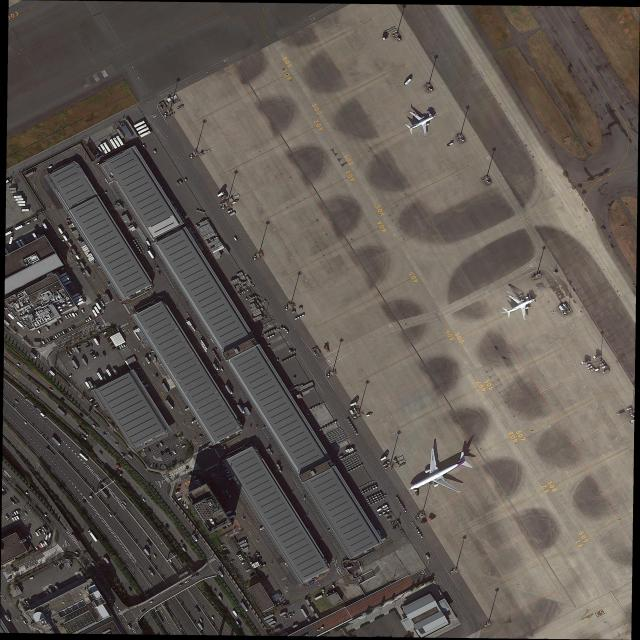large-vehicle: (98, 488, 110, 501), (87, 530, 99, 543), (77, 426, 89, 437), (224, 384, 234, 396), (138, 130, 151, 139), (45, 447, 56, 457), (56, 407, 67, 417), (115, 135, 125, 146), (102, 142, 112, 153), (15, 320, 26, 330), (236, 404, 246, 415), (242, 405, 252, 416), (402, 78, 413, 88), (78, 452, 89, 462), (109, 138, 118, 150), (99, 143, 108, 155), (71, 359, 80, 371), (161, 382, 170, 394), (137, 127, 150, 135), (24, 170, 37, 178), (52, 437, 62, 447), (112, 137, 121, 148), (165, 399, 174, 410), (133, 120, 145, 128), (300, 607, 308, 619), (7, 313, 17, 322), (147, 250, 156, 260), (240, 602, 249, 612), (104, 292, 112, 303), (263, 613, 274, 621), (135, 124, 147, 131), (15, 223, 25, 231), (96, 372, 104, 382), (105, 369, 113, 379), (91, 308, 99, 318), (184, 405, 195, 412), (196, 622, 204, 631), (102, 555, 110, 564), (142, 548, 151, 556), (191, 534, 199, 543), (217, 569, 225, 578), (3, 614, 12, 622), (212, 363, 220, 372), (94, 306, 102, 315), (83, 269, 91, 278), (231, 609, 239, 618), (190, 574, 200, 581), (3, 230, 13, 237), (107, 280, 117, 287), (95, 301, 102, 311), (71, 292, 81, 299), (76, 300, 86, 307), (279, 631, 289, 638), (273, 626, 283, 633), (265, 617, 275, 624), (30, 352, 38, 360), (87, 380, 95, 388), (147, 568, 155, 576), (145, 540, 153, 548), (70, 246, 77, 255), (19, 238, 26, 247), (81, 357, 88, 366), (84, 381, 91, 390), (194, 606, 201, 615), (235, 620, 242, 629), (259, 525, 268, 532), (73, 295, 83, 301), (39, 412, 47, 419), (42, 223, 49, 231), (15, 240, 22, 248), (57, 227, 64, 235), (74, 346, 81, 354), (93, 338, 100, 346), (49, 370, 57, 377), (112, 368, 119, 376), (144, 357, 151, 365), (60, 271, 68, 278), (279, 610, 287, 617), (8, 236, 14, 245), (75, 297, 84, 303), (62, 277, 71, 283), (239, 542, 248, 548), (316, 626, 325, 632), (191, 418, 200, 424), (217, 595, 224, 602), (54, 585, 61, 592), (116, 470, 123, 477), (62, 234, 68, 242), (79, 261, 85, 269), (32, 232, 38, 240), (64, 280, 72, 286), (47, 587, 53, 595), (45, 590, 51, 598), (268, 620, 276, 626), (238, 539, 246, 545), (14, 198, 25, 202), (88, 495, 95, 501), (115, 464, 122, 470), (67, 241, 73, 248), (97, 146, 103, 153), (44, 325, 50, 332), (376, 507, 383, 513), (292, 623, 299, 629), (306, 617, 312, 624), (16, 200, 26, 204), (12, 195, 22, 199), (61, 275, 69, 280), (228, 476, 236, 481), (42, 526, 48, 532), (43, 540, 49, 546), (34, 531, 40, 537), (91, 562, 97, 568), (181, 547, 187, 553), (17, 203, 26, 207), (25, 600, 31, 606), (6, 577, 12, 583), (75, 254, 80, 261), (146, 240, 151, 247), (381, 504, 388, 509), (226, 473, 233, 478), (9, 190, 17, 194), (37, 530, 42, 536), (71, 312, 76, 318), (127, 624, 132, 630), (127, 454, 133, 459), (20, 209, 30, 212), (47, 165, 53, 170), (383, 506, 389, 511), (302, 634, 309, 638), (38, 544, 43, 549), (11, 517, 16, 522), (15, 515, 20, 520), (233, 237, 238, 242), (48, 532, 52, 538), (40, 542, 44, 548), (225, 470, 231, 474), (9, 187, 16, 190), (44, 535, 48, 540), (14, 516, 18, 521), (270, 624, 275, 628)
plane: (393, 432, 493, 514), (494, 283, 543, 329), (395, 100, 445, 145)
small-vehicle: (81, 434, 88, 440), (165, 524, 171, 530), (152, 554, 158, 560), (120, 453, 126, 459), (98, 451, 104, 457), (92, 424, 98, 430), (93, 402, 99, 408), (41, 340, 46, 346), (58, 318, 63, 324), (102, 350, 107, 356), (227, 209, 233, 214), (142, 144, 147, 150), (25, 221, 31, 226), (179, 540, 185, 545), (225, 552, 231, 557), (67, 374, 73, 379), (114, 426, 120, 431), (23, 420, 28, 426), (108, 512, 113, 518), (122, 501, 128, 506), (48, 387, 54, 392), (14, 399, 19, 405), (82, 498, 87, 504), (168, 451, 173, 457), (69, 326, 74, 331), (102, 331, 107, 336), (104, 334, 109, 339), (68, 313, 73, 318), (66, 314, 71, 319), (61, 330, 66, 335), (112, 345, 117, 350), (34, 546, 39, 551), (198, 618, 203, 623), (211, 616, 216, 621), (213, 588, 218, 593), (128, 587, 133, 592), (386, 508, 391, 513), (114, 442, 119, 447), (43, 513, 48, 518), (142, 498, 147, 503), (102, 432, 107, 437), (106, 417, 111, 422), (220, 368, 225, 373), (215, 362, 220, 367), (35, 389, 40, 394), (60, 397, 65, 402), (79, 413, 84, 418), (155, 444, 160, 449), (172, 450, 177, 455), (159, 442, 164, 447), (147, 448, 152, 453), (23, 511, 28, 516), (4, 515, 9, 520), (17, 508, 22, 513), (0, 487, 5, 492), (92, 356, 98, 360), (85, 344, 91, 348), (219, 543, 225, 547), (222, 547, 228, 551), (229, 560, 235, 564), (183, 580, 189, 584), (178, 583, 184, 587), (241, 561, 247, 565), (239, 557, 245, 561), (245, 568, 251, 572), (224, 468, 230, 472), (174, 491, 180, 495), (88, 398, 94, 402), (180, 445, 186, 449), (194, 479, 200, 483), (191, 475, 197, 479), (193, 477, 199, 481), (80, 309, 85, 313), (75, 312, 79, 317), (88, 316, 92, 321), (72, 324, 76, 329), (16, 363, 21, 367), (69, 350, 73, 355), (71, 348, 76, 352), (77, 345, 82, 349), (91, 354, 96, 358), (89, 350, 94, 354), (84, 341, 89, 345), (108, 339, 113, 343), (110, 342, 115, 346), (67, 353, 71, 358), (67, 327, 71, 332), (60, 331, 64, 336), (57, 332, 61, 337), (56, 333, 60, 338), (53, 334, 57, 339), (52, 335, 56, 340), (45, 338, 49, 343), (37, 330, 41, 335), (56, 321, 60, 326), (64, 315, 68, 320), (96, 162, 101, 166), (23, 620, 27, 625), (149, 600, 154, 604), (168, 559, 173, 563), (378, 513, 383, 517), (25, 491, 29, 496), (176, 488, 181, 492), (177, 485, 182, 489), (118, 345, 122, 350), (120, 344, 124, 349), (122, 343, 126, 348), (177, 497, 182, 501), (167, 448, 171, 453), (171, 460, 175, 465), (173, 459, 177, 464), (197, 483, 202, 487), (196, 481, 201, 485), (160, 451, 164, 456), (11, 512, 15, 517), (13, 511, 17, 516), (15, 510, 19, 515), (12, 501, 16, 506), (163, 464, 167, 469), (158, 465, 162, 470), (238, 556, 244, 559), (96, 336, 100, 340), (86, 318, 90, 322), (84, 319, 88, 323), (50, 337, 54, 341), (54, 322, 58, 326), (73, 367, 77, 371), (20, 615, 24, 619), (59, 566, 63, 570), (382, 511, 386, 515), (289, 615, 293, 619), (291, 612, 295, 616), (288, 612, 292, 616), (116, 346, 120, 350), (162, 451, 166, 455), (10, 498, 14, 502), (90, 352, 95, 355), (85, 343, 90, 346), (106, 338, 111, 341), (48, 337, 51, 342), (96, 352, 99, 357), (53, 563, 56, 568), (237, 554, 242, 557), (282, 600, 287, 603), (284, 617, 289, 620), (141, 448, 146, 451), (181, 500, 184, 505), (150, 350, 155, 353), (165, 449, 168, 454), (208, 447, 213, 450), (57, 562, 60, 566), (55, 563, 58, 567), (283, 615, 287, 618), (278, 606, 282, 609), (278, 604, 282, 607), (276, 602, 280, 605), (148, 354, 151, 358), (186, 505, 189, 509), (154, 464, 157, 468), (184, 503, 186, 508)
